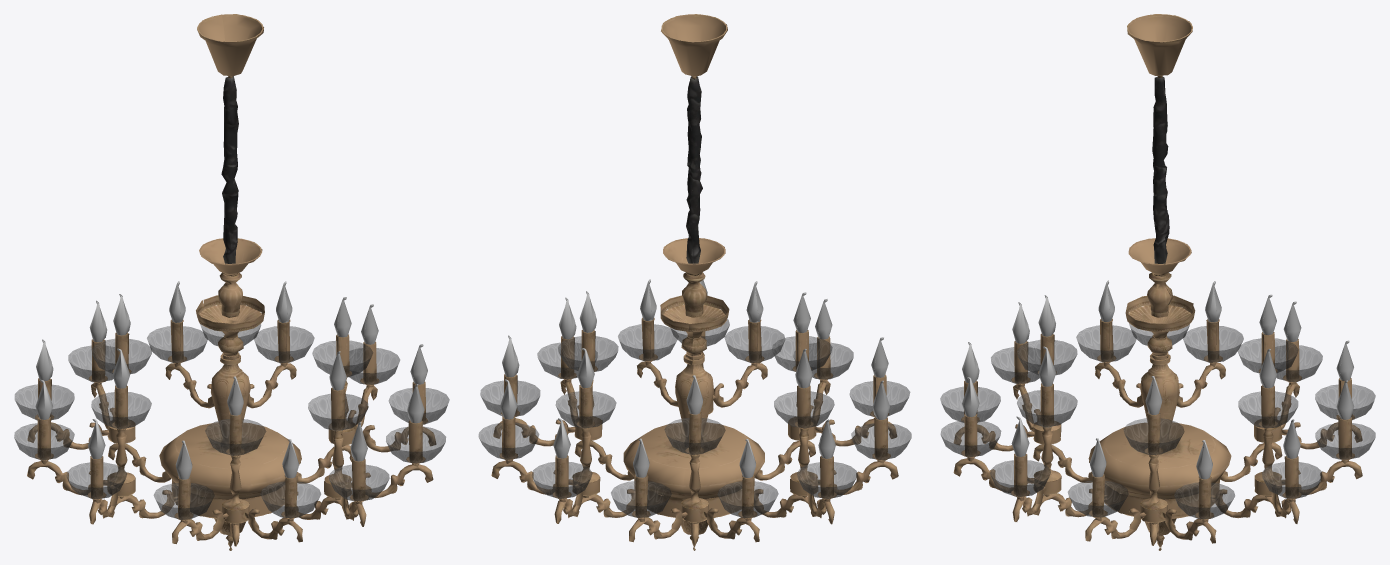
The model's file is chandelier3.glb.
The picture shows the model from 3 angles, left to right: view 1: azimuth 30°, elevation 25°; view 2: azimuth 150°, elevation 25°; view 3: azimuth 270°, elevation 25°; orthographic projection.
Parts seen in each view (by area): view 1: Chandelier_03; view 2: Chandelier_03; view 3: Chandelier_03.
Part boxes in pixels (box(x1,y1,x2,y2)): Chandelier_03: box(14, 14, 449, 550); Chandelier_03: box(478, 14, 911, 550); Chandelier_03: box(940, 14, 1375, 550).
Bounding box in the file's own units: 0.7817 × 1.04 × 0.7868.
Materials: 2 (2 with a texture image).
